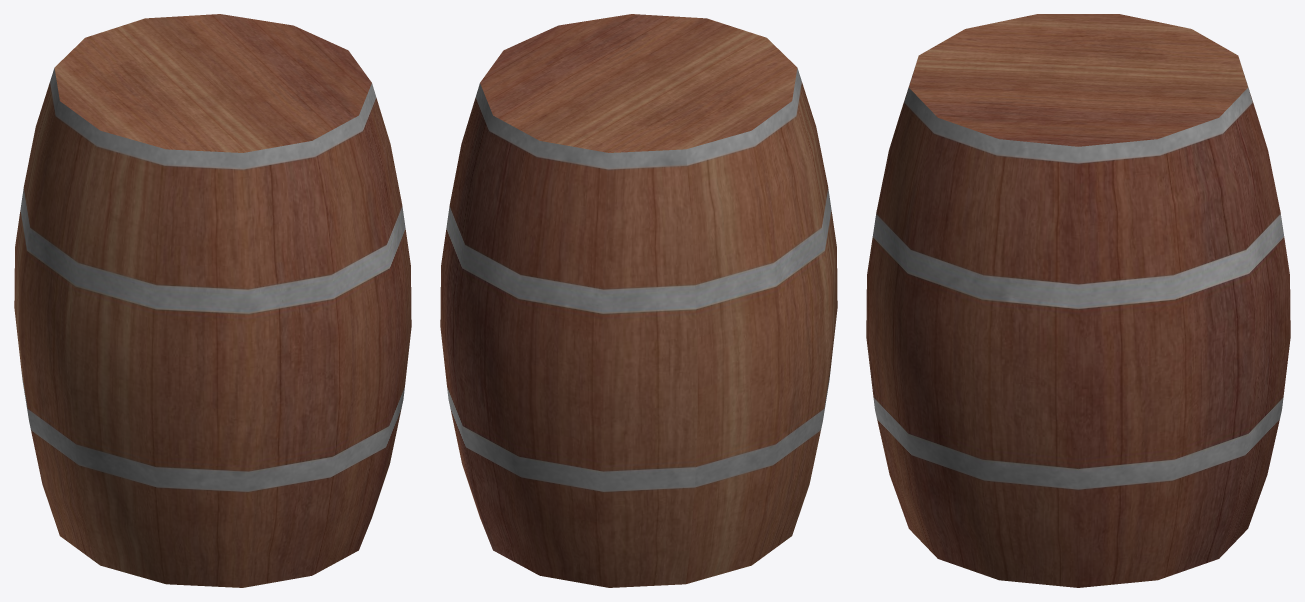
The model's file is barril.fbx.
3 renders of one model, left to right at view 1: azimuth 30°, elevation 25°; view 2: azimuth 150°, elevation 25°; view 3: azimuth 270°, elevation 25°, orthographic.
Visible parts, largest first — view 1: barril; view 2: barril; view 3: barril.
Part boxes in pixels (<box>): barril: <box>14,14,411,587</box>; barril: <box>440,14,837,587</box>; barril: <box>866,14,1290,587</box>.
Bounding box in the file's own units: 0.8278 × 1.02 × 0.8935.
